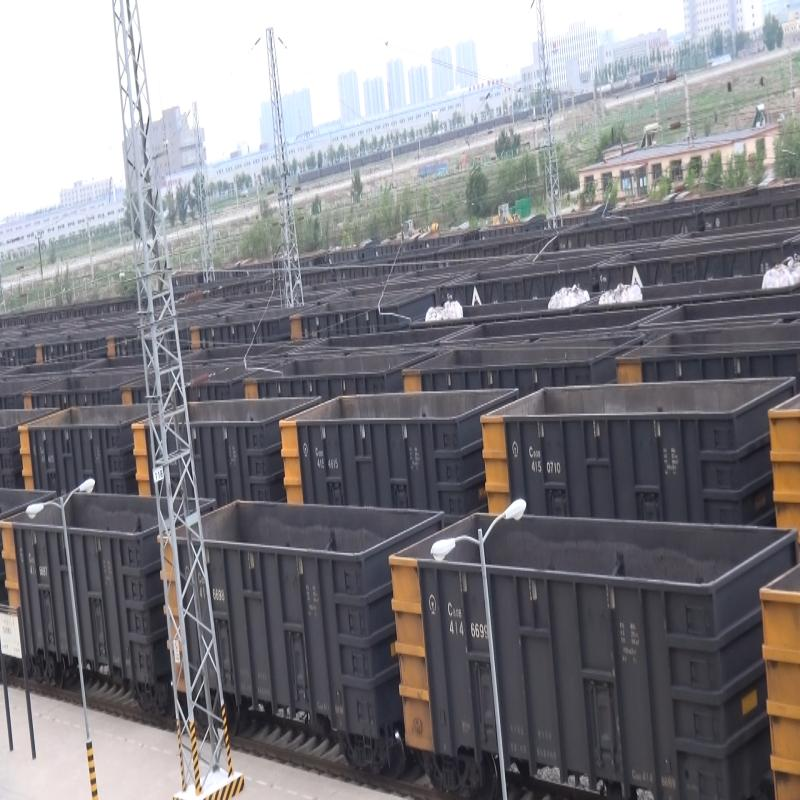train: (192, 493, 412, 763), (487, 388, 753, 525)
